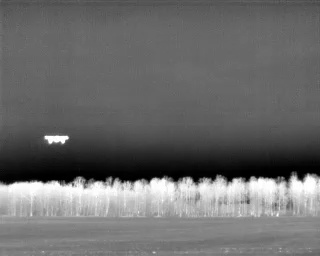DRONE: (40, 130, 72, 149)
